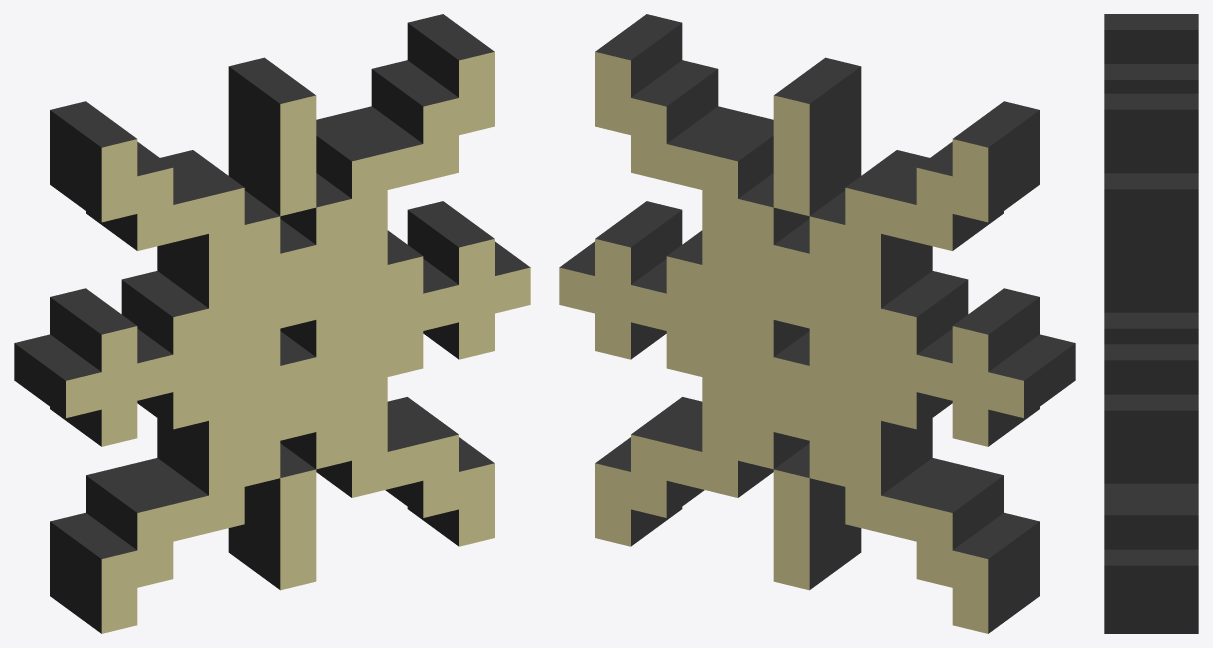
Rendered from Bruce.glb.
3 views of the same model, side by side, from view 1: azimuth 30°, elevation 25°; view 2: azimuth 150°, elevation 25°; view 3: azimuth 270°, elevation 25° (orthographic). The views are drawn at different scales.
Parts seen in each view (by area): view 1: Bruce; view 2: Bruce; view 3: Bruce.
Part boxes in pixels (x1,y1,x2,y2): Bruce: [14, 14, 530, 633]; Bruce: [559, 14, 1075, 633]; Bruce: [1104, 14, 1198, 633].
Bounding box in the file's own units: 3 × 3 × 0.5767.
